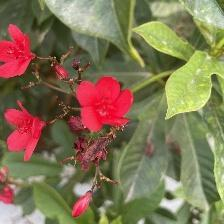jatropha: (76, 74, 137, 133)
